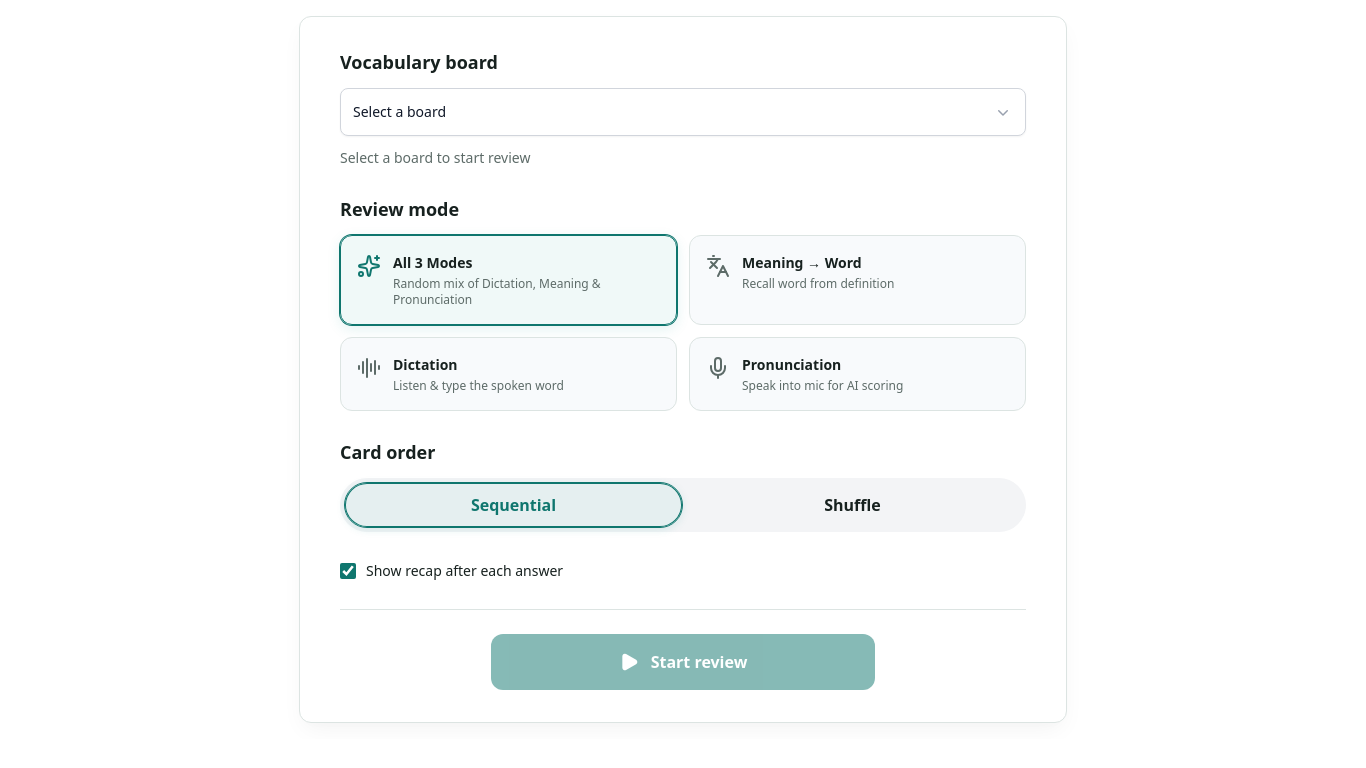
Test: ReviewSessionPage keyboard shortcuts › renders the pronunciation target, IPA, audio, record, and stop controls as one mode surface
Click the button with aria-label "vocabulary board": (400, 112) top-left (340, 88), bottom-right (1026, 136)
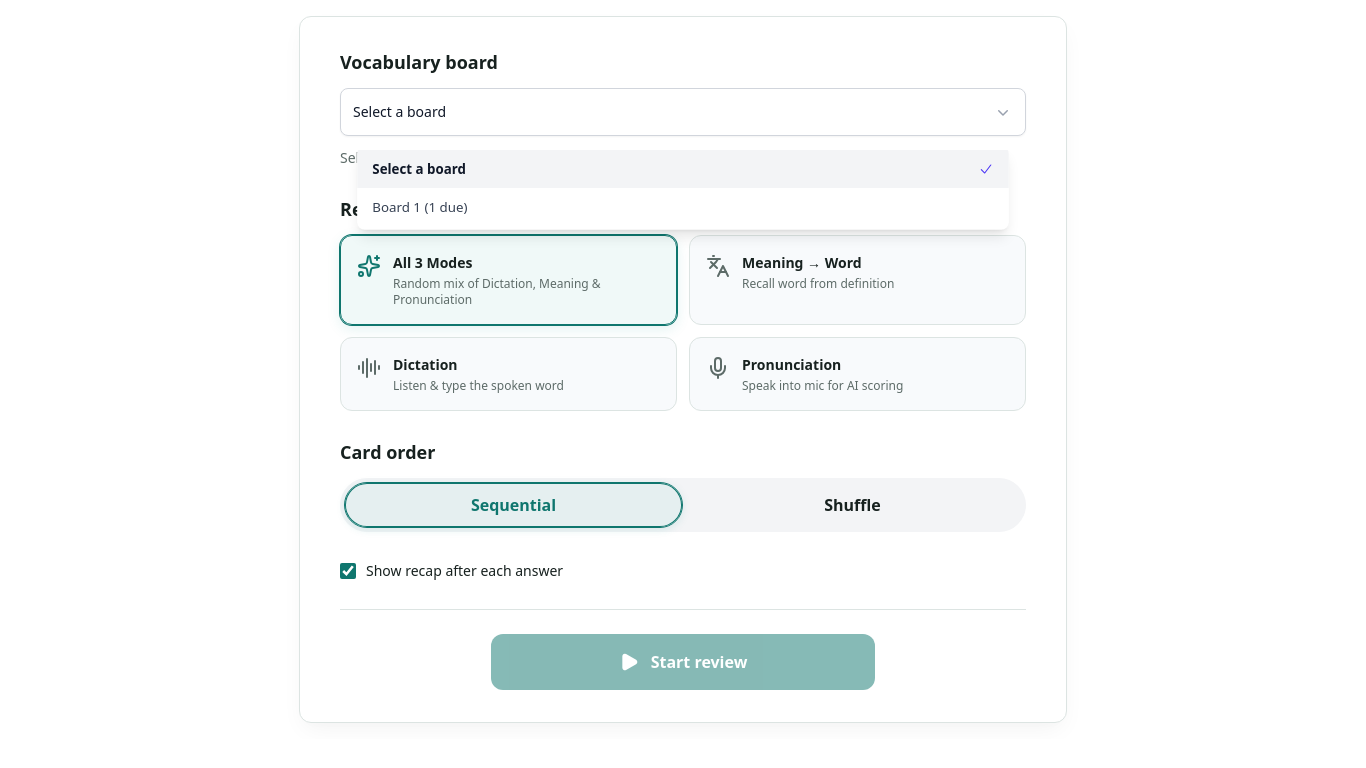
Click the option "Board 1 (1 due)": (420, 207) top-left (372, 198), bottom-right (467, 216)
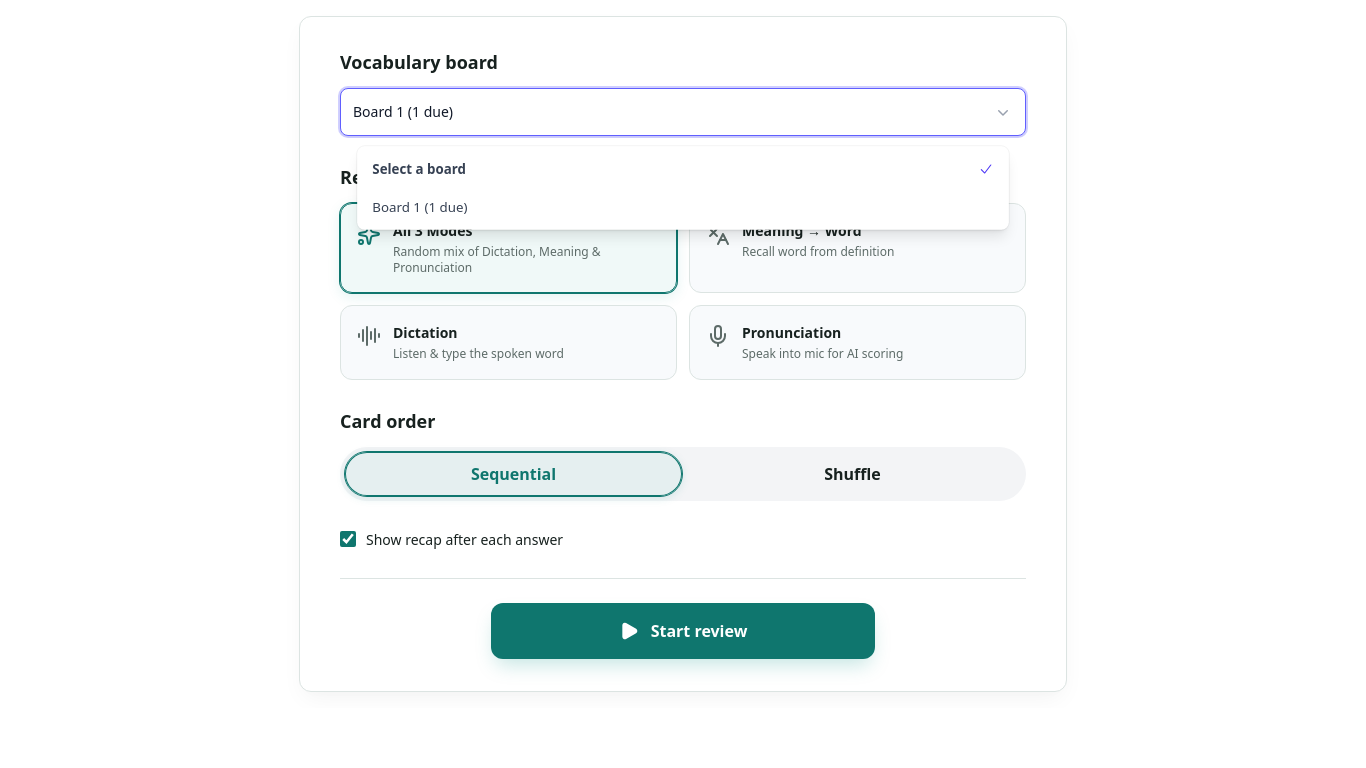
Click the button "Pronunciation Speak into mic for AI scoring": (858, 342) top-left (689, 305), bottom-right (1026, 380)
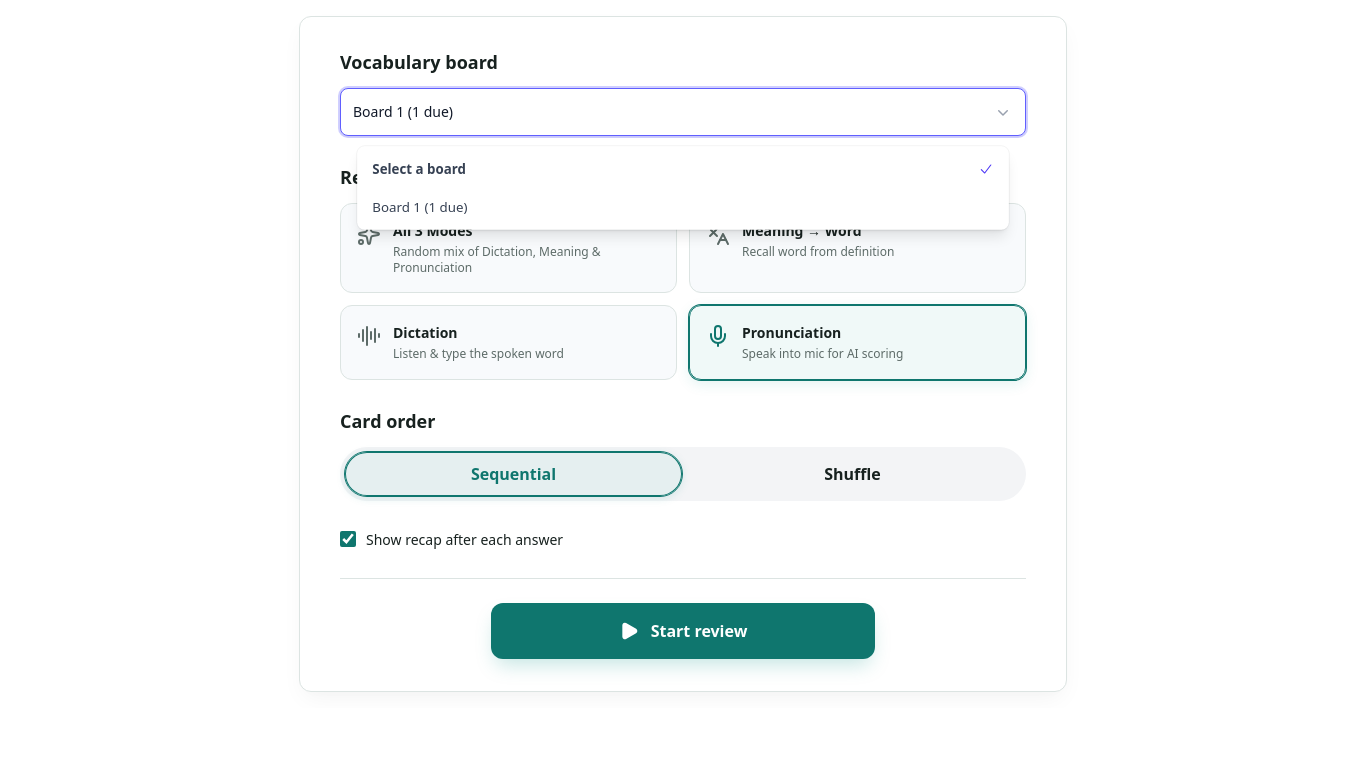
Click the button "Shuffle": (852, 474) top-left (683, 451), bottom-right (1022, 497)
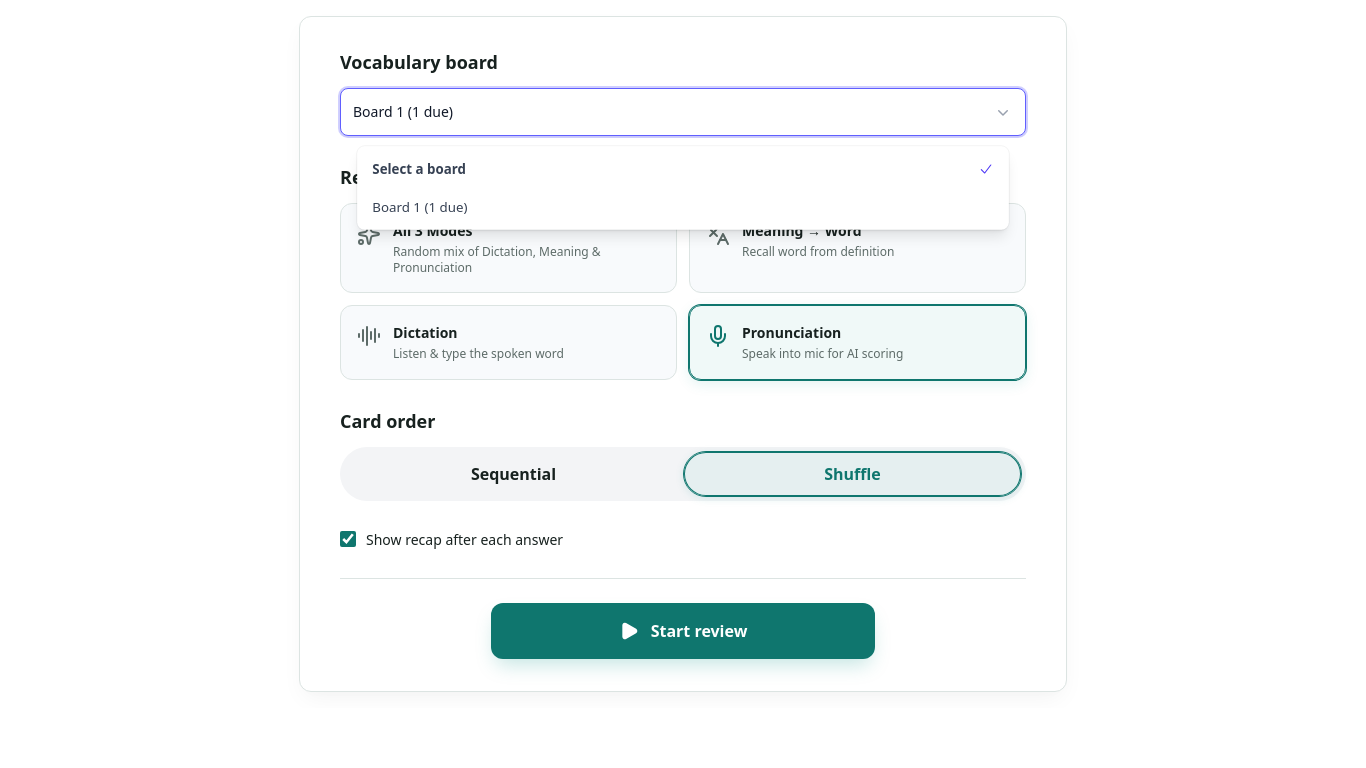
Click the button "Start review": (683, 631) top-left (491, 603), bottom-right (875, 659)
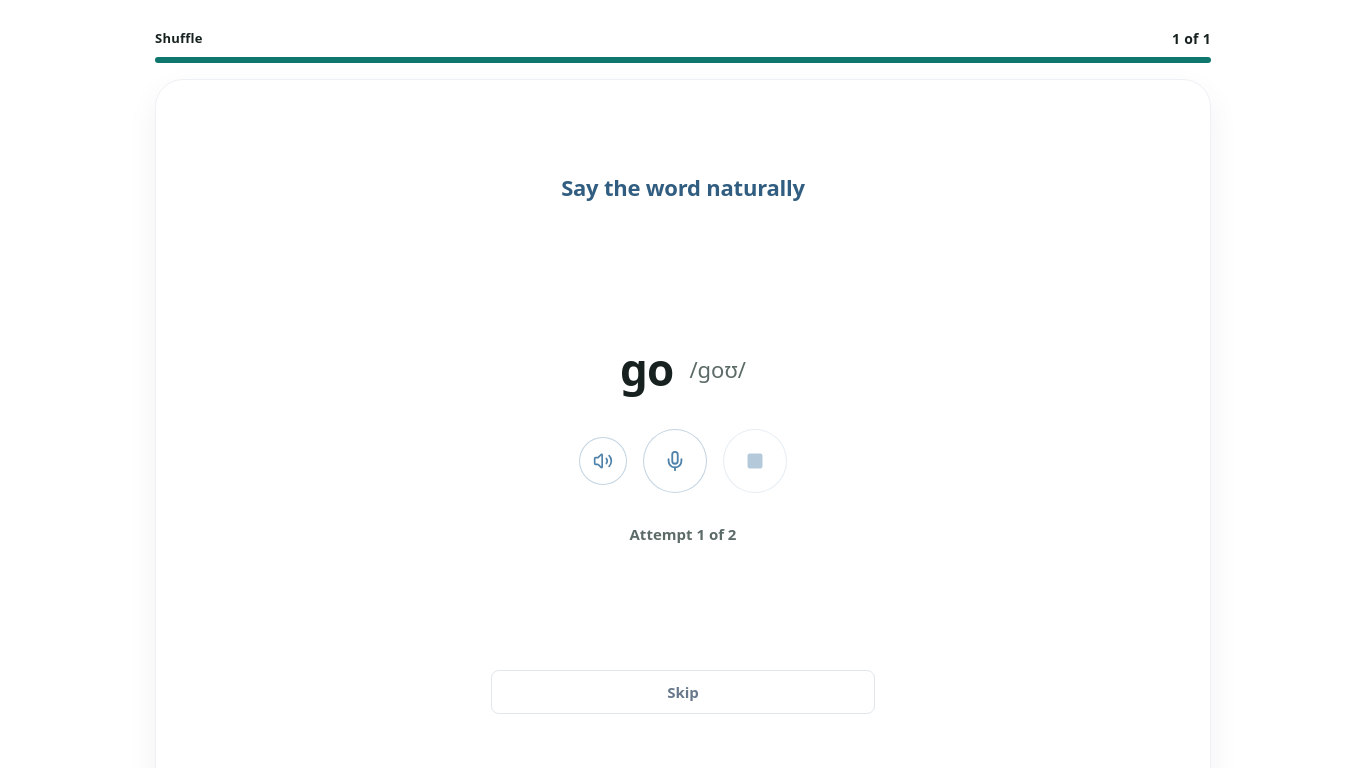
Now the heading "Say the word naturally" is shown, box top-left (561, 172), bottom-right (805, 202)
Now the text "go" is shown, box top-left (620, 342), bottom-right (673, 397)
Now the text "/ɡoʊ/" is shown, box top-left (689, 356), bottom-right (746, 383)
